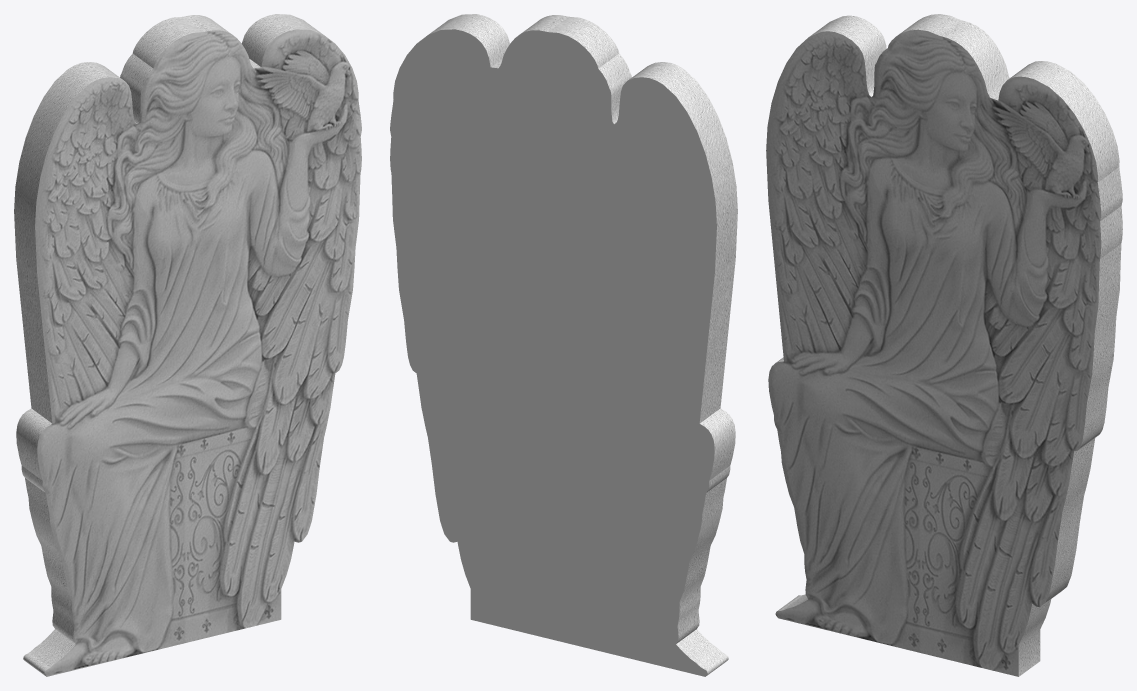
File: cnec0460f05e_tkf.glb
3 renders of one model, left to right at view 1: azimuth 30°, elevation 25°; view 2: azimuth 150°, elevation 25°; view 3: azimuth 330°, elevation 25°, orthographic. The views are drawn at different scales.
Parts seen in each view (by area): view 1: Pam-d01-040_2_notexture; view 2: Pam-d01-040, Pam-d01-040_2_notexture; view 3: Pam-d01-040_2_notexture.
Boxes of the visible parts, <box> form: Pam-d01-040_2_notexture: <box>14,14,361,676</box>; Pam-d01-040: <box>390,29,716,676</box>; Pam-d01-040_2_notexture: <box>428,14,737,675</box>; Pam-d01-040_2_notexture: <box>766,14,1122,676</box>.
Size of the model in its own units: 0.45 by 0.8 by 0.05.
1 material, 1 textured.
